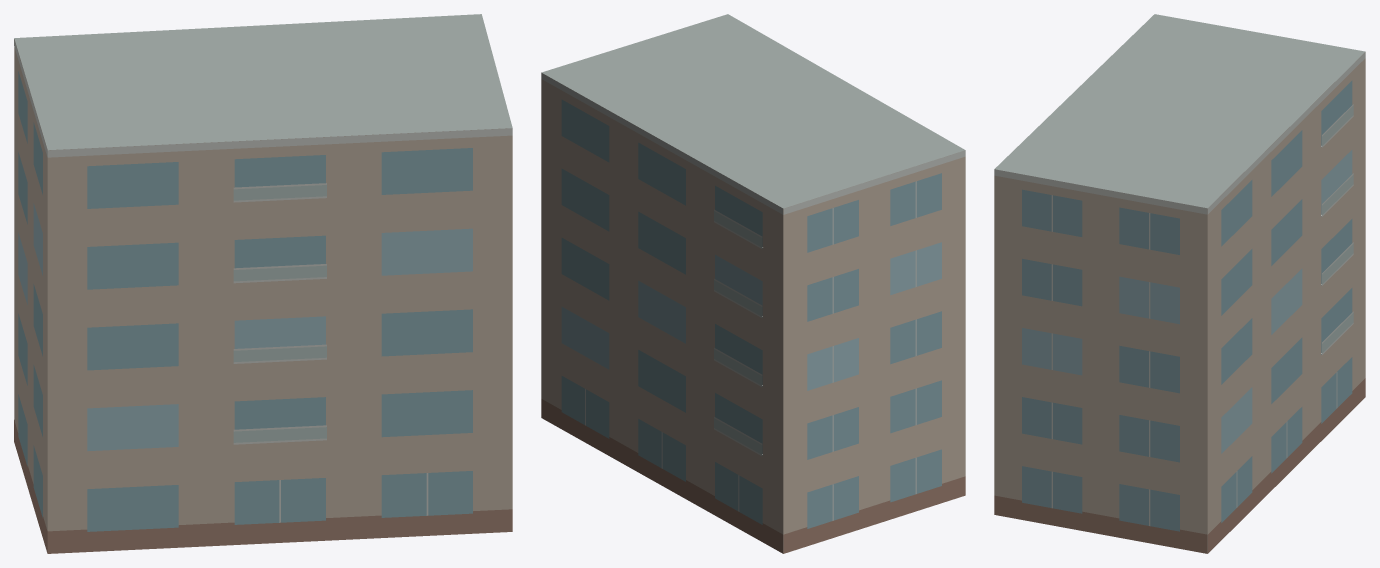
Rendered from survey-upis-32959655.glb.
The picture shows the model from 3 angles, left to right: view 1: azimuth 30°, elevation 25°; view 2: azimuth 150°, elevation 25°; view 3: azimuth 270°, elevation 25°; orthographic projection. The views are drawn at different scales.
Visible parts, largest first — view 1: survey-upis-32959655.tmp; view 2: survey-upis-32959655.tmp; view 3: survey-upis-32959655.tmp.
Boxes of the visible parts, bbox=[...] form: survey-upis-32959655.tmp: bbox=[14, 14, 512, 553]; survey-upis-32959655.tmp: bbox=[541, 14, 965, 553]; survey-upis-32959655.tmp: bbox=[994, 14, 1365, 553].
Bounding box in the file's own units: 15.92 × 13.2 × 12.86.
